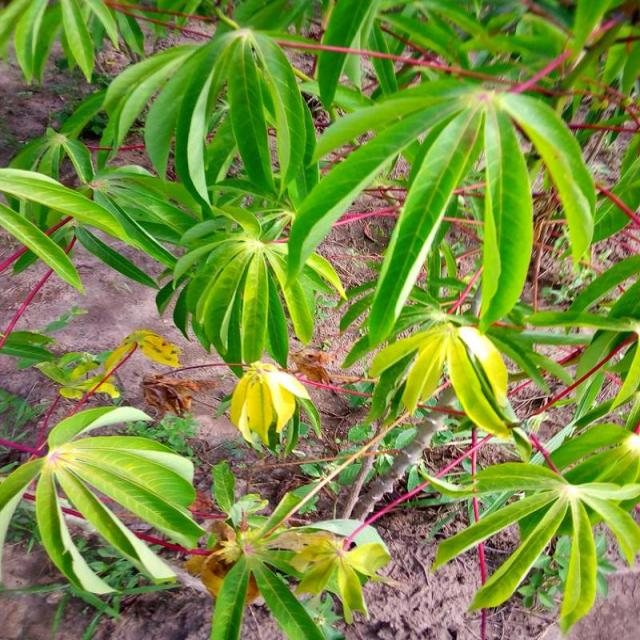cassava leaf: (288, 73, 598, 350), (2, 402, 206, 600)
